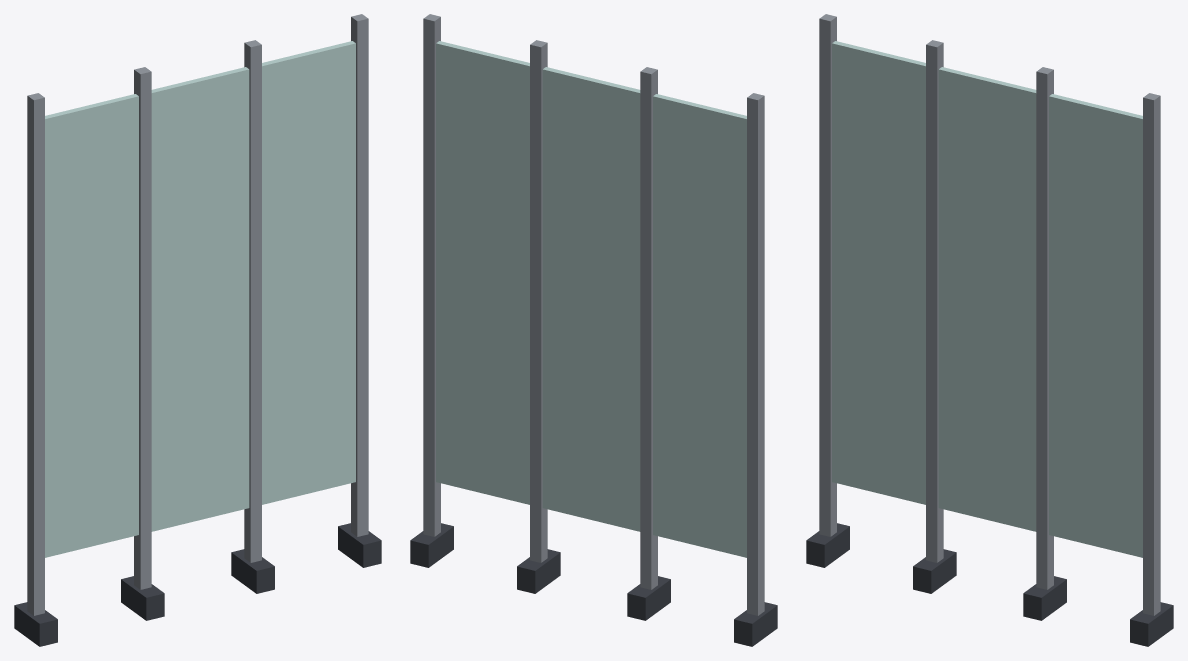
File: hos-biombo.gltf
The picture shows the model from 3 angles, left to right: view 1: azimuth 30°, elevation 25°; view 2: azimuth 150°, elevation 25°; view 3: azimuth 330°, elevation 25°; orthographic projection.
Parts seen in each view (by area): view 1: hos-biombo; view 2: hos-biombo; view 3: hos-biombo.
Boxes of the visible parts, bbox=[...] form: hos-biombo: bbox=[14, 14, 381, 646]; hos-biombo: bbox=[410, 14, 777, 646]; hos-biombo: bbox=[806, 14, 1173, 646].
Size of the model in its own units: 0.93 by 1.4 by 0.12.
